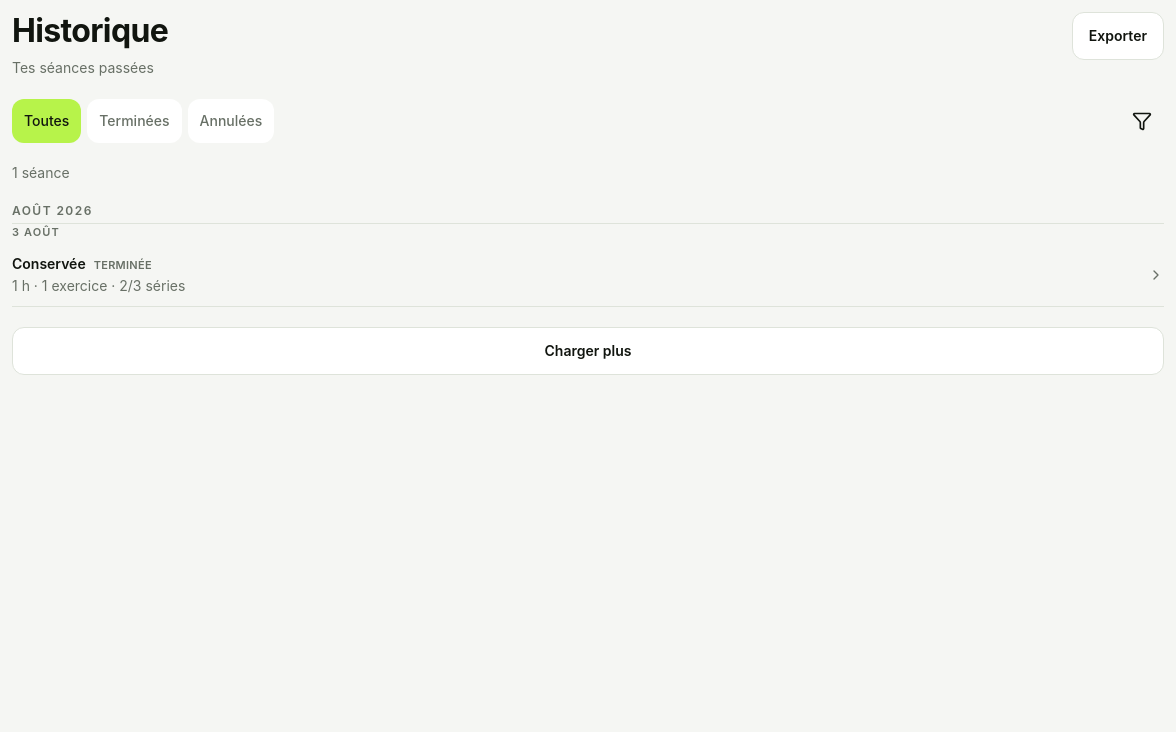
Test case: WorkoutsHistoryPage › conserve les pages déjà chargées si la page suivante échoue
Expected: the text "Conservée" is shown, [12,254,86,274]
What coordinates should you click on to do the following:
click the button "Charger plus"
I would click on:
 (588, 351)
Its box is [12,327,1164,375].
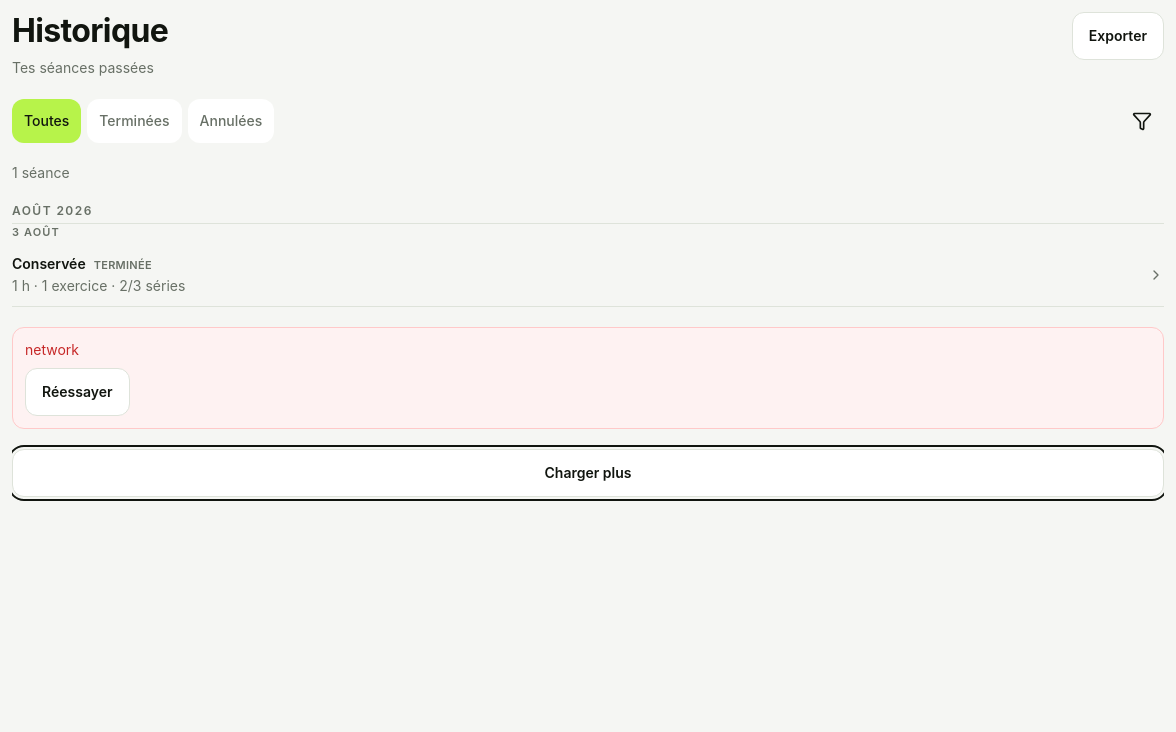
Expected: the text "Conservée" is shown, [12,254,86,274]
Result: the message "network Réessayer" is shown at [12,327,1164,429]
